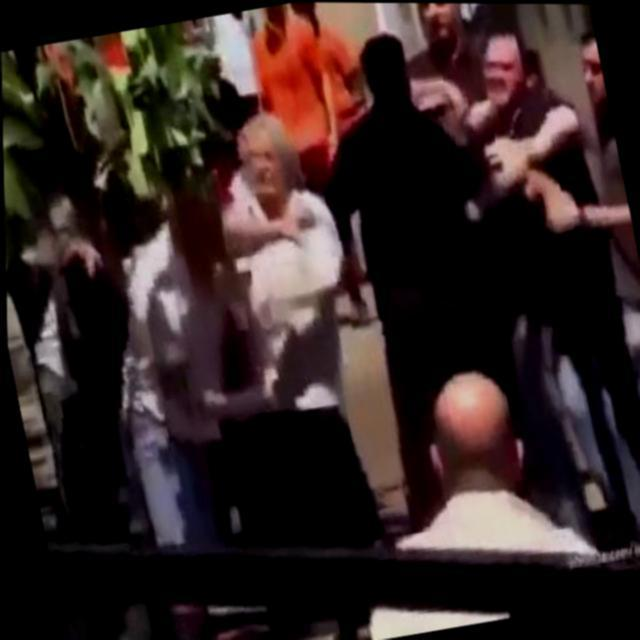fight: (76, 110, 386, 560), (406, 17, 640, 540)
